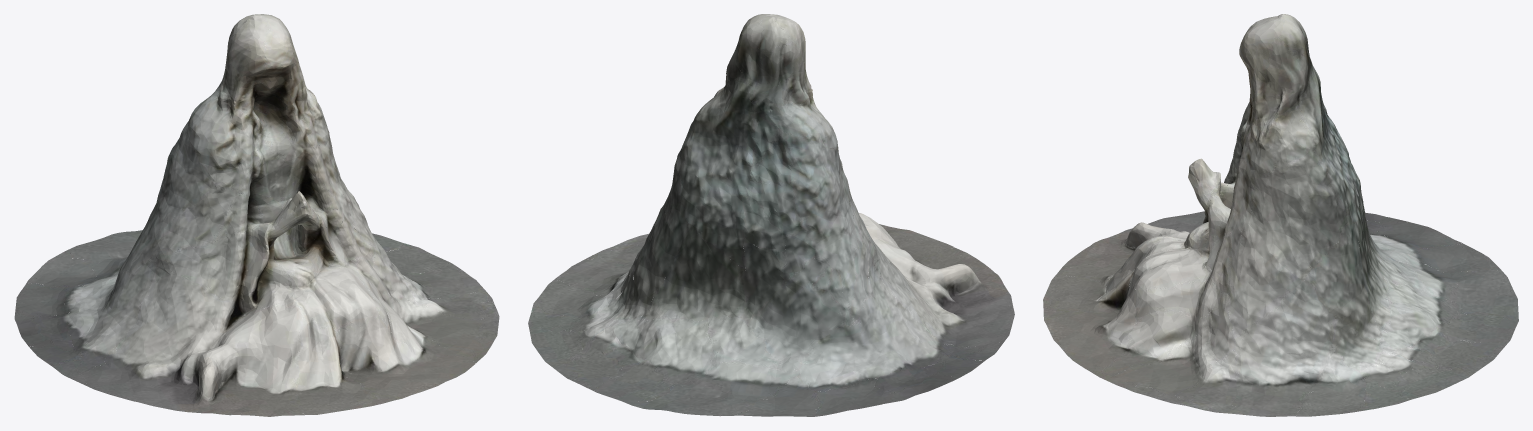
File: Ranni Decimated Baked.glb
3 views of the same model, side by side, from view 1: azimuth 30°, elevation 25°; view 2: azimuth 150°, elevation 25°; view 3: azimuth 270°, elevation 25° (orthographic). The views are drawn at different scales.
Visible parts, largest first — view 1: Ranni; view 2: Ranni; view 3: Ranni.
Boxes of the visible parts, <box> form: Ranni: <box>14,14,499,416</box>; Ranni: <box>528,14,1014,416</box>; Ranni: <box>1043,14,1518,416</box>.
Size of the model in its own units: 0.9279 by 0.6569 by 0.9333.
Materials: 1 (1 with a texture image).
